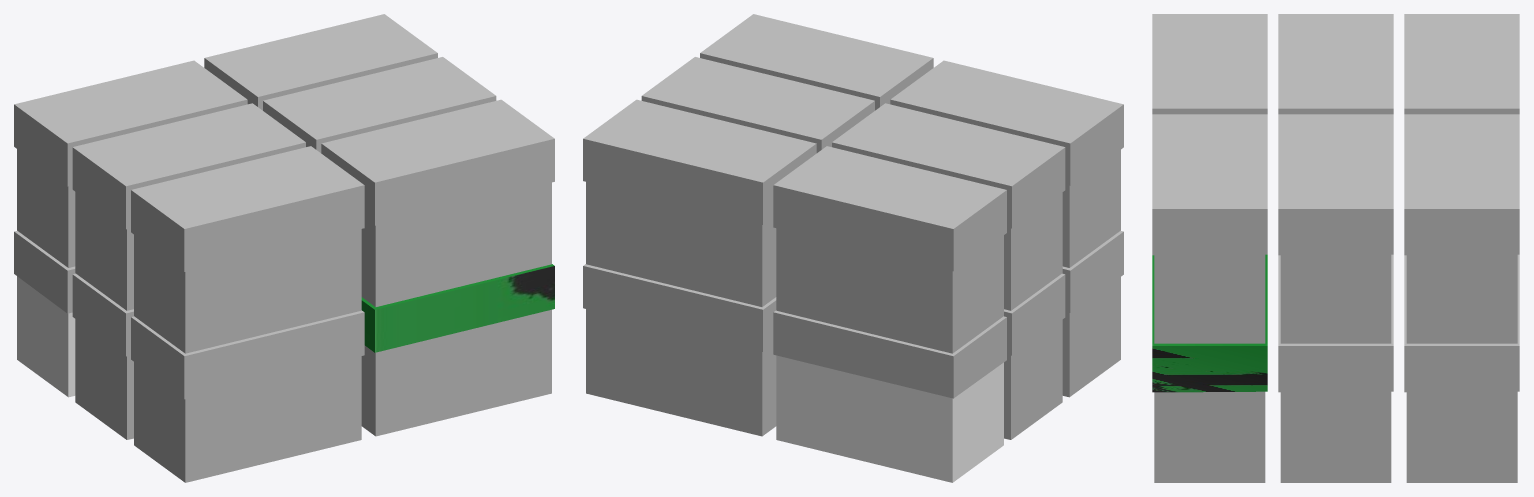
File: green_stack.dae
3 renders of one model, left to right at view 1: azimuth 30°, elevation 25°; view 2: azimuth 150°, elevation 25°; view 3: azimuth 270°, elevation 25°, orthographic. The views are drawn at different scales.
Parts seen in each view (by area): view 1: Cube.004, Cube.013, Cube.002, Cube.007, Cube.012, Cube.009, Cube, Cube.005, Cube.023, Cube.006, Cube.022, Cube.020 (+6 smaller); view 2: Cube, Cube.015, Cube.001, Cube.023, Cube.016, Cube.010, Cube.004, Cube.005, Cube.006, Cube.007, Cube.018, Cube.011 (+6 smaller); view 3: Cube.023, Cube.006, Cube.007, Cube.005, Cube.004, Cube, Cube.016, Cube.017, Cube.012, Cube.010, Cube.008, Cube.009 (+3 smaller).
Boxes of the visible parts, x1,y1,x2,y2 form: Cube.004: [131, 146, 364, 271]; Cube.013: [134, 356, 361, 482]; Cube.002: [134, 229, 361, 353]; Cube.007: [321, 99, 554, 225]; Cube.012: [361, 309, 551, 436]; Cube.009: [361, 182, 551, 306]; Cube: [14, 60, 247, 186]; Cube.005: [72, 103, 305, 229]; Cube.023: [204, 14, 437, 110]; Cube.006: [263, 57, 496, 152]; Cube.022: [131, 310, 364, 399]; Cube.020: [361, 264, 554, 352]; Cube: [773, 146, 1006, 271]; Cube.015: [776, 355, 1003, 482]; Cube.001: [776, 228, 1003, 353]; Cube.023: [583, 99, 816, 224]; Cube.016: [586, 309, 776, 436]; Cube.010: [586, 182, 776, 306]; Cube.004: [890, 60, 1123, 185]; Cube.005: [832, 103, 1065, 228]; Cube.006: [641, 57, 874, 152]; Cube.007: [700, 14, 933, 110]; Cube.018: [773, 310, 1006, 398]; Cube.011: [583, 264, 776, 351]; Cube.023: [1404, 114, 1519, 255]; Cube.006: [1278, 114, 1393, 255]; Cube.007: [1152, 114, 1267, 255]; Cube.005: [1278, 14, 1393, 114]; Cube.004: [1152, 14, 1267, 114]; Cube: [1404, 14, 1519, 114]; Cube.016: [1406, 391, 1517, 482]; Cube.017: [1280, 391, 1391, 482]; Cube.012: [1154, 391, 1265, 482]; Cube.010: [1406, 254, 1517, 343]; Cube.008: [1280, 254, 1391, 343]; Cube.009: [1154, 254, 1265, 343].
Size of the model in its own units: 0.9145 by 0.7286 by 0.6018.
